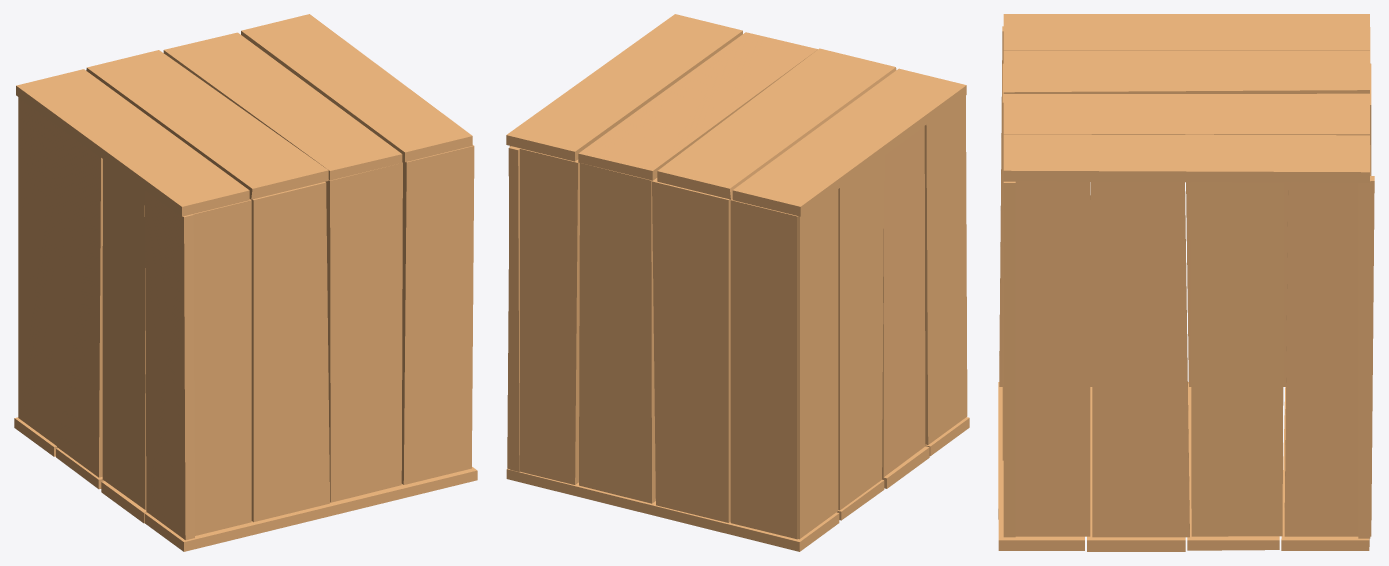
The picture shows the model from 3 angles, left to right: view 1: azimuth 30°, elevation 25°; view 2: azimuth 150°, elevation 25°; view 3: azimuth 270°, elevation 25°; orthographic projection. The views are drawn at different scales.
Visible parts, largest first — view 1: crates.005; view 2: crates.005; view 3: crates.005.
Part boxes in pixels (x1=…): crates.005: x1=14, y1=14, x2=477, y2=551; crates.005: x1=506, y1=14, x2=969, y2=551; crates.005: x1=998, y1=14, x2=1374, y2=551.
Bounding box in the file's own units: 191 × 214 × 191.
